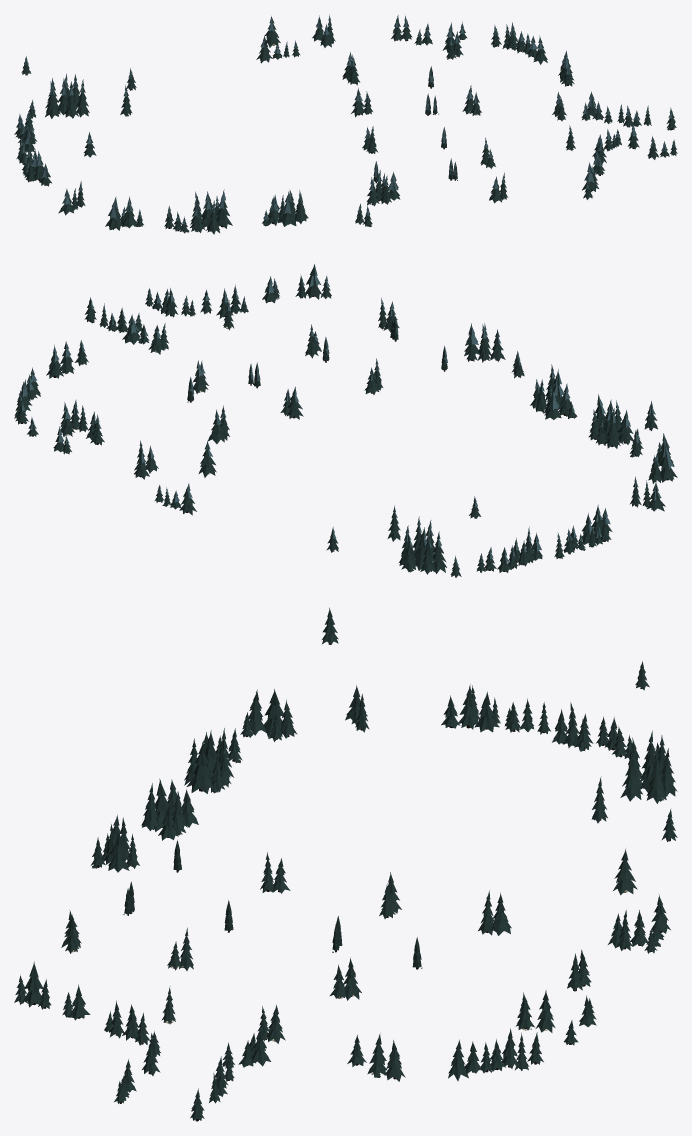
Rendered from ILHA3_10_VEGETATION_ac1e1a.fbx.
3 renders of one model, top to bottom at view 1: azimuth 30°, elevation 25°; view 2: azimuth 150°, elevation 25°; view 3: azimuth 270°, elevation 25°, orthographic. The views are drawn at different scales.
Visible parts, largest first — view 1: SG_Veg_Pines_West__Leaf_SG_Pine, SG_Veg_Pines_NorthE__Leaf_SG_Pine, SG_Veg_Pines_South__Leaf_SG_Pine, SG_Veg_Pines_VillageE__Leaf_SG_Pine, SG_Veg_Pines_VillageS__Leaf_SG_Pine, SG_Veg_Pines_SouthE__Leaf_SG_Pine, SG_Veg_Pines_North__Leaf_SG_Pine_g8_11, SG_Veg_Pines_VillageW__Leaf_SG_Pine, SG_Veg_Pines_North__Leaf_SGVegMoon, SG_Veg_Pines_South__Leaf_SGVegMoon, SG_Veg_Pines_North__Leaf_SG_Pine_g8_12, SG_Veg_Pines_West__Leaf_SGVegMoon (+6 smaller); view 2: SG_Veg_Pines_NorthE__Leaf_SG_Pine, SG_Veg_Pines_South__Leaf_SG_Pine, SG_Veg_Pines_West__Leaf_SG_Pine, SG_Veg_Pines_VillageE__Leaf_SG_Pine, SG_Veg_Pines_VillageS__Leaf_SG_Pine, SG_Veg_Pines_SouthE__Leaf_SG_Pine, SG_Veg_Pines_North__Leaf_SG_Pine_g8_11, SG_Veg_Pines_VillageW__Leaf_SG_Pine, SG_Veg_Pines_North__Leaf_SG_Pine_g8_12, SG_Veg_Pines_North__Leaf_SGVegMoon, SG_Veg_Pines_West__Leaf_SGVegMoon, SG_Veg_Pines_South__Leaf_SGVegMoon (+4 smaller); view 3: SG_Veg_Pines_NorthE__Leaf_SG_Pine, SG_Veg_Pines_South__Leaf_SG_Pine, SG_Veg_Pines_West__Leaf_SG_Pine, SG_Veg_Pines_SouthE__Leaf_SG_Pine, SG_Veg_Pines_VillageE__Leaf_SG_Pine, SG_Veg_Pines_VillageS__Leaf_SG_Pine, SG_Veg_Pines_North__Leaf_SG_Pine_g8_11, SG_Veg_Pines_North__Leaf_SG_Pine_g8_12, SG_Veg_Pines_VillageW__Leaf_SG_Pine.
Part boxes in pixels (x1,y1,x2,y2): SG_Veg_Pines_West__Leaf_SG_Pine: [190, 192, 372, 234]; SG_Veg_Pines_NorthE__Leaf_SG_Pine: [14, 57, 136, 146]; SG_Veg_Pines_South__Leaf_SG_Pine: [581, 103, 677, 199]; SG_Veg_Pines_VillageE__Leaf_SG_Pine: [263, 17, 437, 117]; SG_Veg_Pines_VillageS__Leaf_SG_Pine: [442, 26, 575, 203]; SG_Veg_Pines_SouthE__Leaf_SG_Pine: [414, 24, 596, 116]; SG_Veg_Pines_North__Leaf_SG_Pine_g8_11: [58, 133, 189, 233]; SG_Veg_Pines_VillageW__Leaf_SG_Pine: [362, 127, 457, 206]; SG_Veg_Pines_North__Leaf_SGVegMoon: [19, 128, 185, 224]; SG_Veg_Pines_South__Leaf_SGVegMoon: [583, 101, 675, 189]; SG_Veg_Pines_North__Leaf_SG_Pine_g8_12: [16, 131, 51, 186]; SG_Veg_Pines_West__Leaf_SGVegMoon: [193, 189, 369, 219]; SG_Veg_Pines_NorthE__Leaf_SG_Pine: [326, 497, 535, 577]; SG_Veg_Pines_South__Leaf_SG_Pine: [84, 266, 331, 344]; SG_Veg_Pines_West__Leaf_SG_Pine: [511, 352, 633, 448]; SG_Veg_Pines_VillageE__Leaf_SG_Pine: [86, 362, 303, 479]; SG_Veg_Pines_VillageS__Leaf_SG_Pine: [60, 300, 399, 436]; SG_Veg_Pines_SouthE__Leaf_SG_Pine: [14, 316, 140, 454]; SG_Veg_Pines_North__Leaf_SG_Pine_g8_11: [629, 403, 677, 511]; SG_Veg_Pines_VillageW__Leaf_SG_Pine: [322, 316, 505, 394]; SG_Veg_Pines_North__Leaf_SG_Pine_g8_12: [531, 507, 612, 560]; SG_Veg_Pines_North__Leaf_SGVegMoon: [535, 401, 673, 551]; SG_Veg_Pines_West__Leaf_SGVegMoon: [516, 351, 630, 427]; SG_Veg_Pines_South__Leaf_SGVegMoon: [90, 264, 329, 336]; SG_Veg_Pines_NorthE__Leaf_SG_Pine: [563, 662, 677, 841]; SG_Veg_Pines_South__Leaf_SG_Pine: [14, 965, 255, 1120]; SG_Veg_Pines_West__Leaf_SG_Pine: [90, 732, 233, 868]; SG_Veg_Pines_SouthE__Leaf_SG_Pine: [251, 997, 596, 1081]; SG_Veg_Pines_VillageE__Leaf_SG_Pine: [332, 851, 648, 991]; SG_Veg_Pines_VillageS__Leaf_SG_Pine: [61, 912, 555, 1043]; SG_Veg_Pines_North__Leaf_SG_Pine_g8_11: [215, 610, 369, 762]; SG_Veg_Pines_North__Leaf_SG_Pine_g8_12: [441, 687, 567, 744]; SG_Veg_Pines_VillageW__Leaf_SG_Pine: [104, 817, 290, 931].
Size of the model in its own units: 415 by 67.9 by 296.
6 materials, 3 textured.
